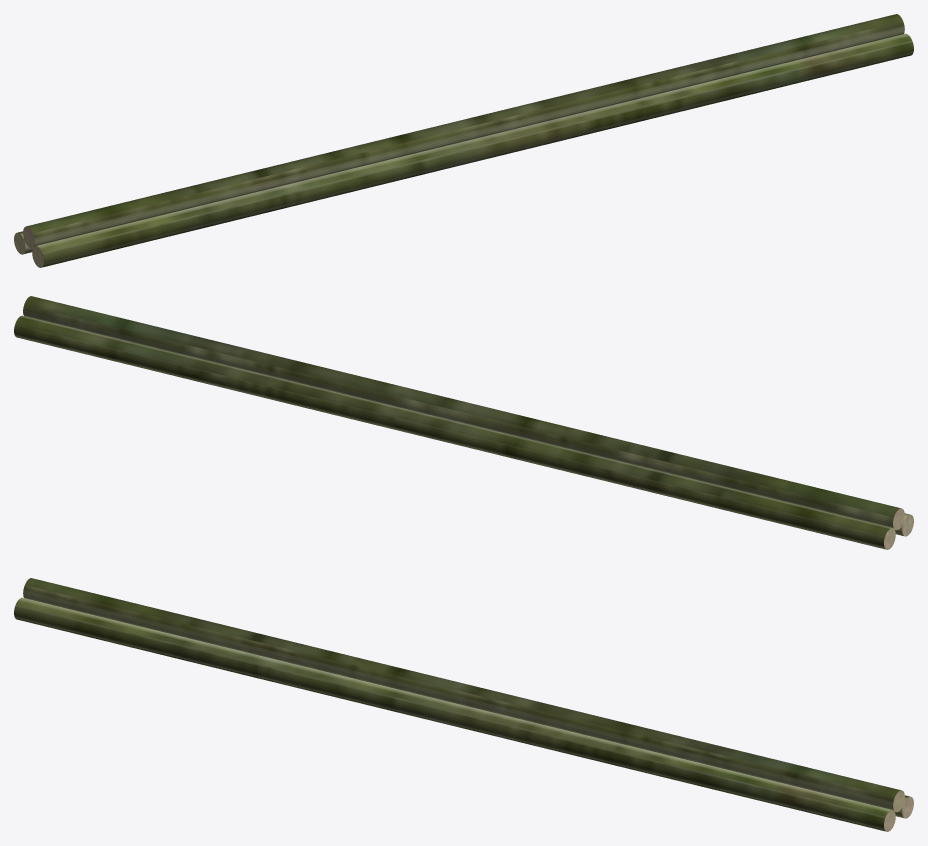
Rendered from bamboo wood.fbx.
The picture shows the model from 3 angles, top to bottom: view 1: azimuth 30°, elevation 25°; view 2: azimuth 150°, elevation 25°; view 3: azimuth 330°, elevation 25°; orthographic projection.
Parts seen in each view (by area): view 1: bamboo; view 2: bamboo; view 3: bamboo.
Boxes of the visible parts, box(x1,y1,x2,y2) form: bamboo: box(14, 14, 913, 267); bamboo: box(14, 296, 913, 549); bamboo: box(14, 578, 913, 831).
Size of the model in its own units: 4553 by 166 by 272.
